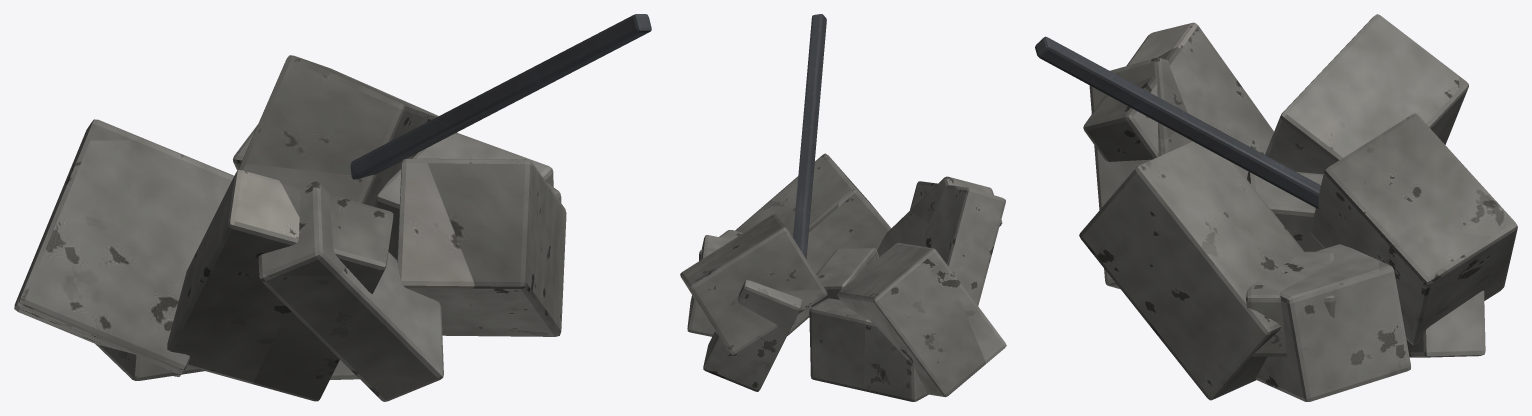
File: rubble.glb
3 renders of one model, left to right at view 1: azimuth 30°, elevation 25°; view 2: azimuth 150°, elevation 25°; view 3: azimuth 270°, elevation 25°, orthographic. The views are drawn at different scales.
Visible parts, largest first — view 1: body; view 2: body; view 3: body.
Part boxes in pixels (<box>): body: <box>14,14,651,401</box>; body: <box>680,14,1006,401</box>; body: <box>1035,14,1517,401</box>.
Size of the model in its own units: 1.22 by 0.9281 by 1.08.
2 materials, 2 textured.
